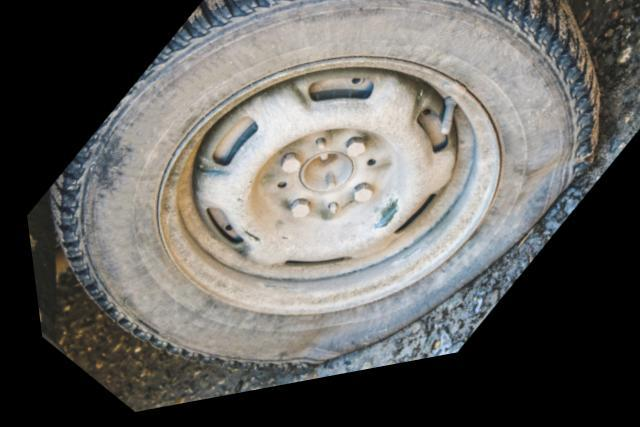tire flat: (41, 0, 598, 378)
